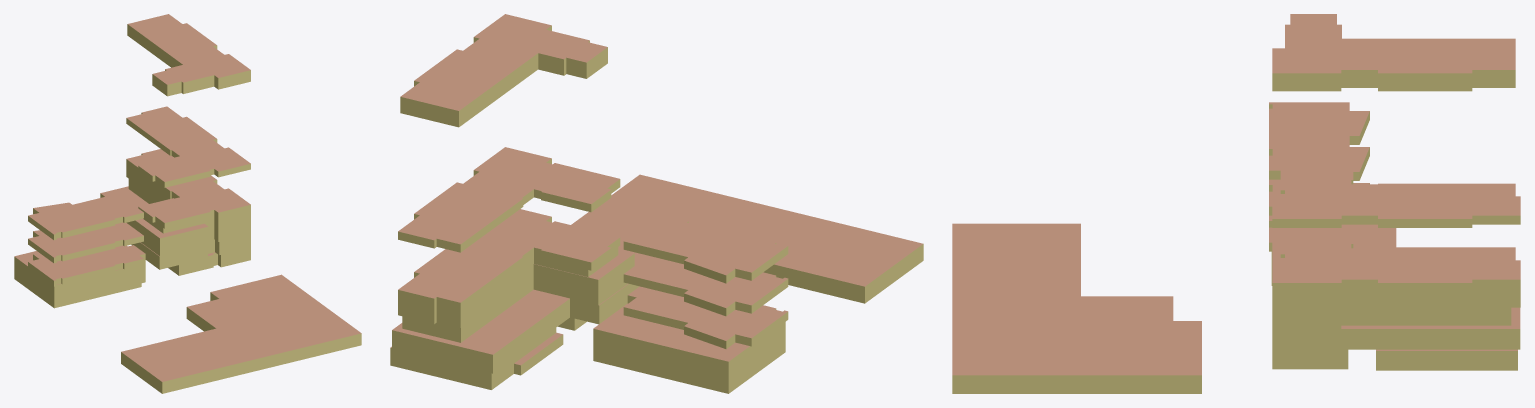
3 renders of one model, left to right at view 1: azimuth 30°, elevation 25°; view 2: azimuth 150°, elevation 25°; view 3: azimuth 270°, elevation 25°, orthographic. The views are drawn at different scales.
Visible parts, largest first — view 1: Surface 10, Surface 63, Surface 7, Surface 1290, Surface 1489, Surface 1499, Surface 1302, Surface 342, Surface 1421, Surface 1110, Surface 247, Surface 950 (+15 smaller); view 2: Surface 10, Surface 308, Surface 284, Surface 1290, Surface 1489, Surface 950, Surface 1499, Surface 962, Surface 1302, Surface 282, Surface 249, Surface 1421 (+46 smaller); view 3: Surface 10, Surface 307, Surface 950, Surface 1290, Surface 1489, Surface 6, Surface 62, Surface 241, Surface 1499, Surface 962, Surface 1302, Surface 448 (+41 smaller).
Part boxes in pixels (x1,y1,x2,y2): Surface 10: (121, 274, 361, 381); Surface 63: (162, 339, 361, 393); Surface 7: (162, 333, 361, 387); Surface 1290: (159, 113, 237, 158); Surface 1489: (165, 23, 237, 65); Surface 1499: (138, 30, 196, 62); Surface 1302: (144, 128, 196, 155); Surface 342: (67, 254, 126, 274); Surface 1421: (67, 207, 126, 228); Surface 1110: (67, 231, 126, 251); Surface 247: (54, 271, 141, 297); Surface 950: (159, 156, 237, 199); Surface 10: (571, 174, 922, 286); Surface 308: (392, 283, 628, 354); Surface 284: (593, 303, 749, 361); Surface 1290: (412, 161, 516, 227); Surface 1489: (414, 28, 516, 88); Surface 950: (412, 223, 517, 285); Surface 1499: (460, 51, 533, 100); Surface 962: (460, 242, 533, 284); Surface 1302: (460, 184, 533, 225); Surface 282: (593, 329, 728, 370); Surface 249: (593, 338, 728, 379); Surface 1421: (667, 220, 751, 249); Surface 10: (952, 223, 1201, 375); Surface 307: (1272, 329, 1520, 340); Surface 950: (1314, 266, 1490, 282); Surface 1290: (1314, 202, 1490, 218); Surface 1489: (1314, 56, 1472, 73); Surface 6: (952, 375, 1201, 384); Surface 62: (952, 384, 1201, 393); Surface 241: (1272, 340, 1520, 349); Surface 1499: (1351, 38, 1482, 53); Surface 962: (1351, 247, 1460, 263); Surface 1302: (1351, 183, 1460, 199); Surface 448: (1341, 316, 1490, 325).
Bounding box in the file's own units: 110 × 103 × 169.
